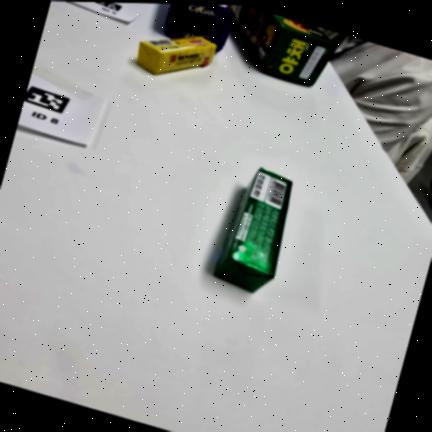gum_green: (214, 168, 291, 292)
